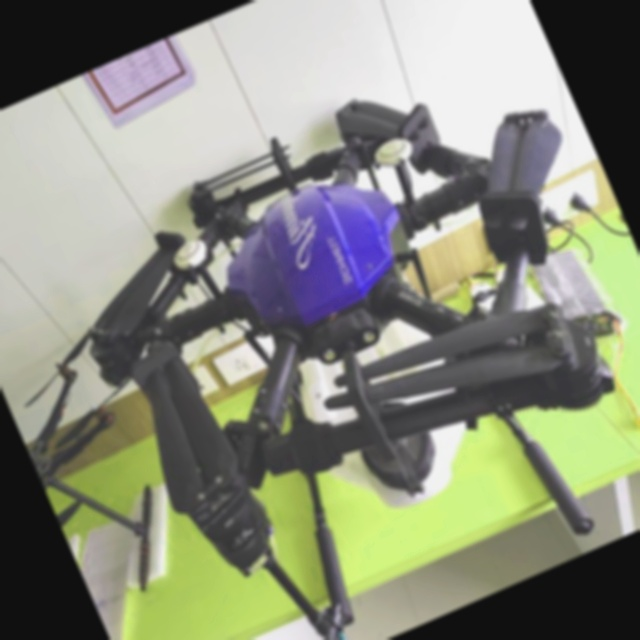agriculturedrone: (0, 9, 640, 640)
